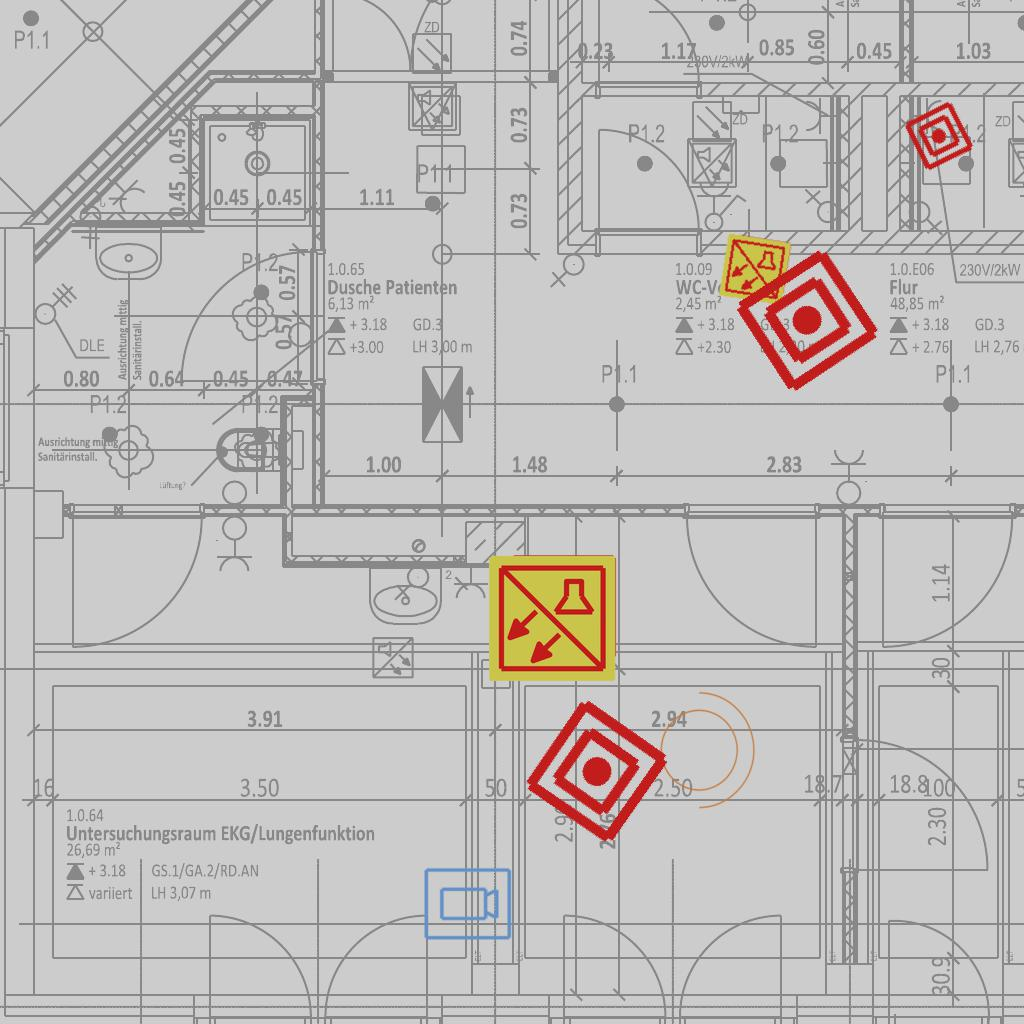KFO_Kamera_mit_Festobjektiv: (422, 866, 513, 943)
NAM-Nichtautomatischer_Melder: (517, 692, 676, 851), (729, 242, 886, 399), (901, 98, 977, 174)
OKW_Multisensormelder_(Kombination_optischer_Rauch-Kahlenmonoxid_Waerme-Melder): (486, 552, 618, 684), (717, 231, 793, 307)
Scheinwerfer_fuer_Alarmbeleuchtung: (648, 681, 760, 813)
